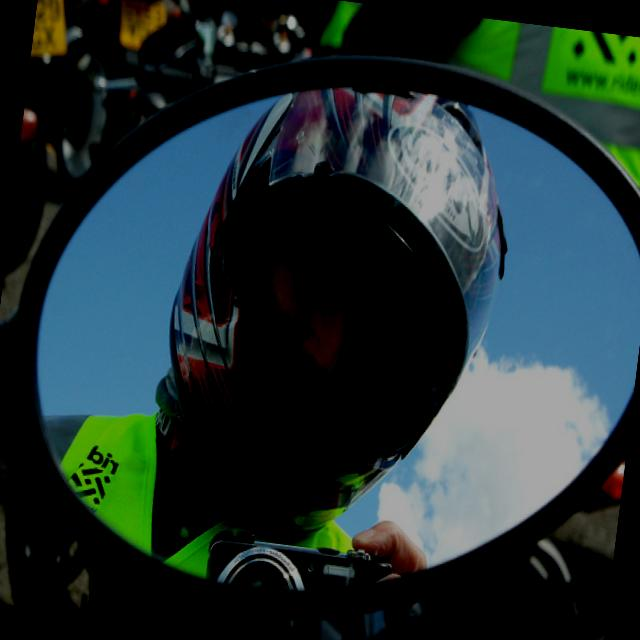Vehicle: (0, 5, 640, 640), (31, 0, 183, 200), (145, 0, 320, 128)
